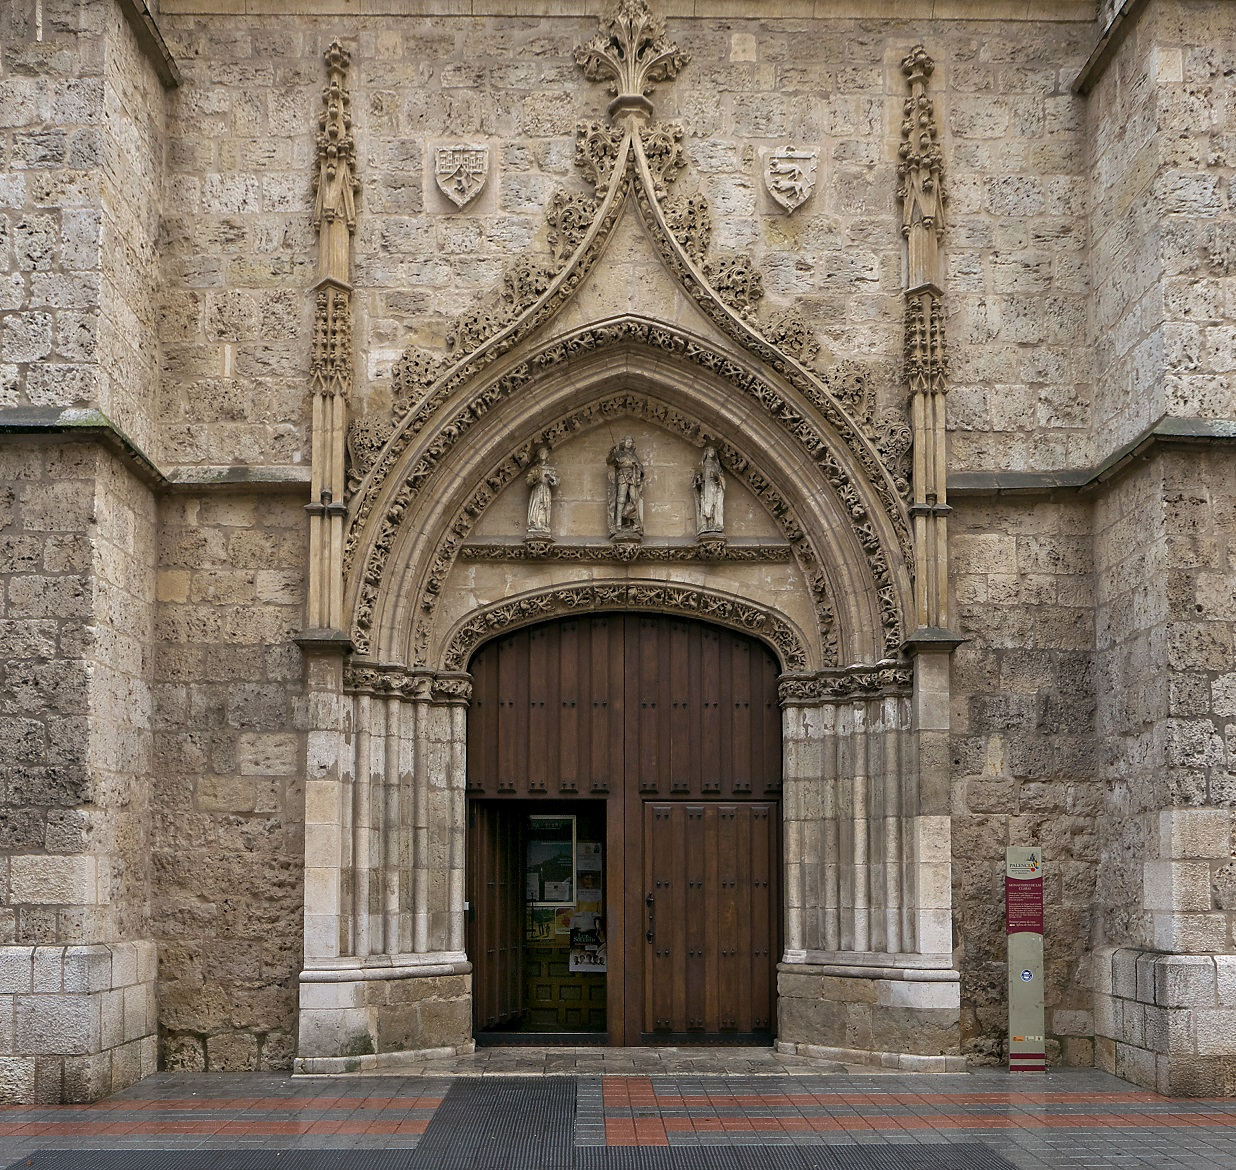arco-apuntado: (393, 358, 860, 648)
arco-conopial: (387, 115, 887, 476)
